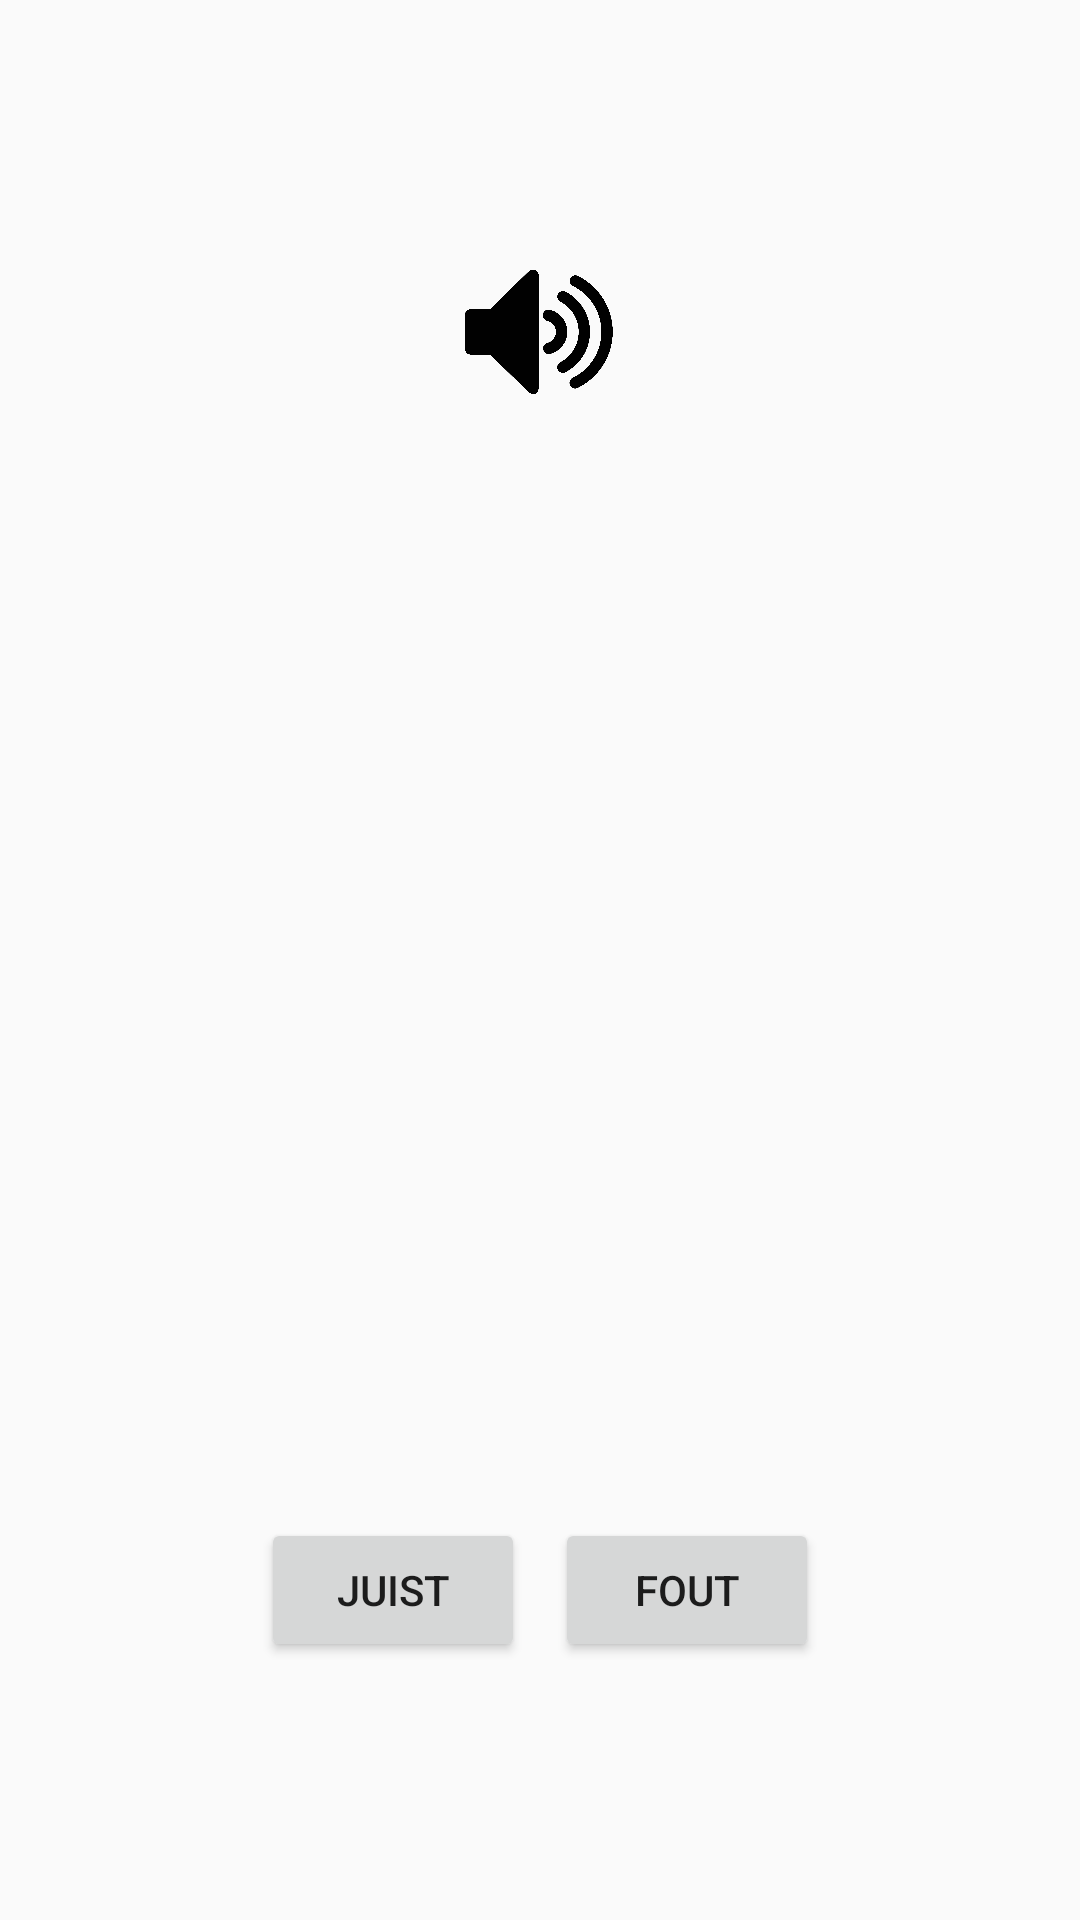

Icon click points for this 1080x1920 phone screenshot, format point (x, y):
audioicon: point (539, 332)
